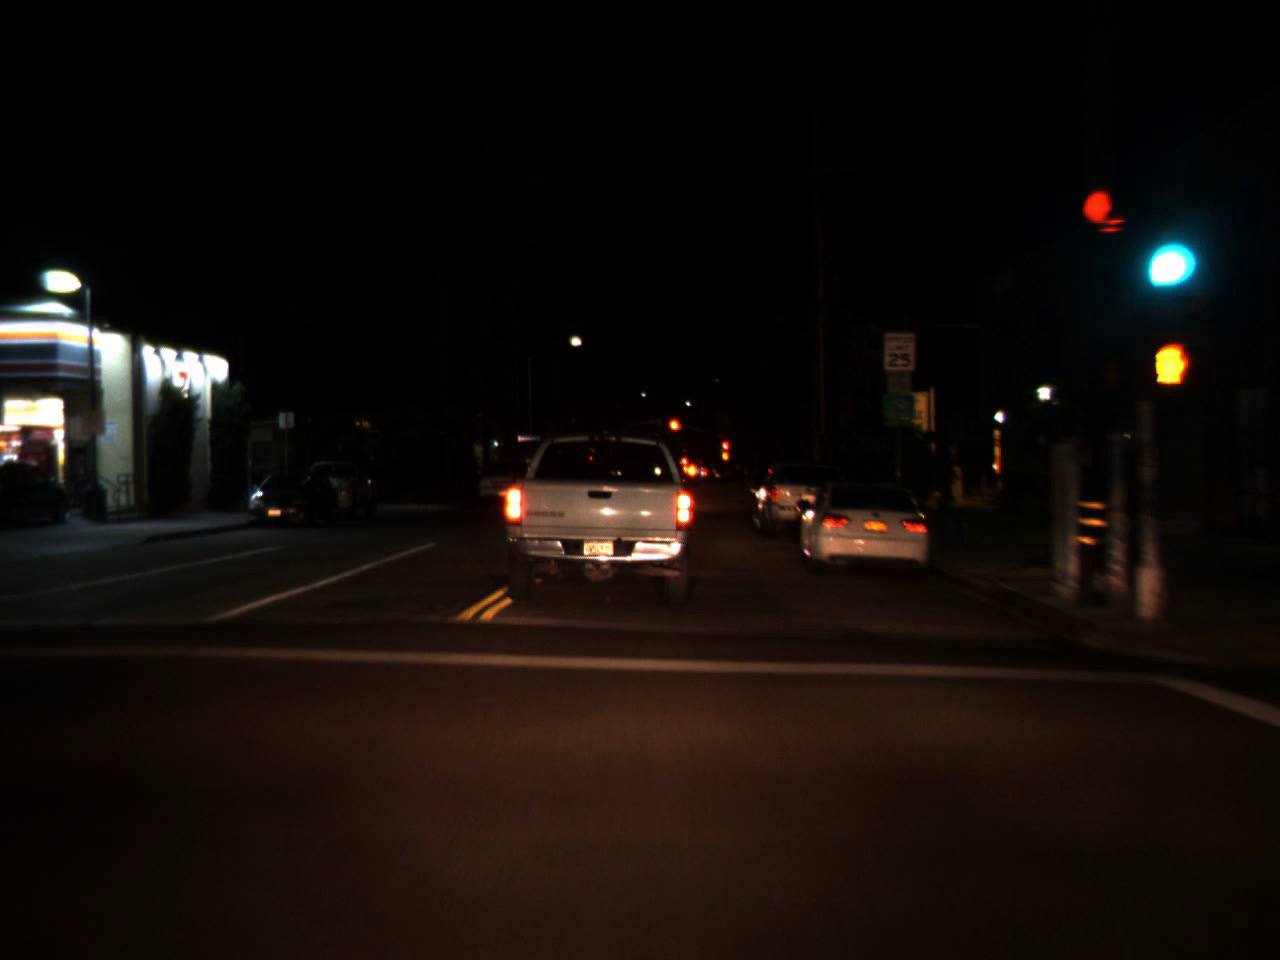go: (1138, 211, 1188, 295)
stop: (667, 417, 680, 444), (721, 440, 730, 453)
